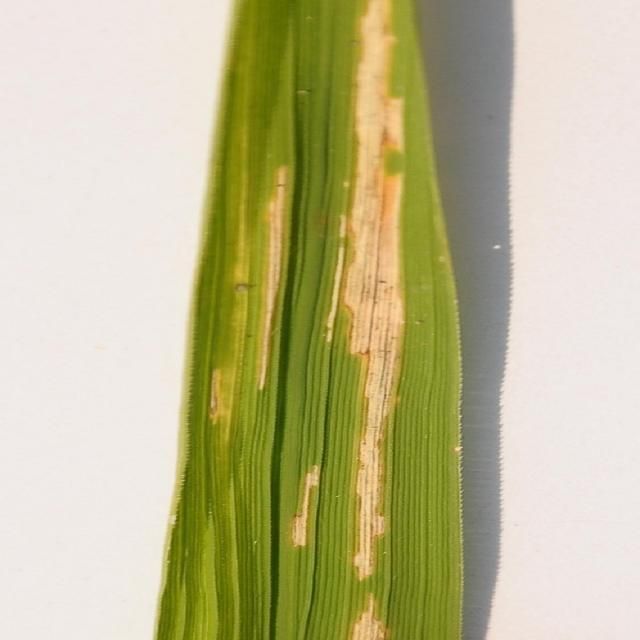leaf blight: (194, 1, 423, 640)
